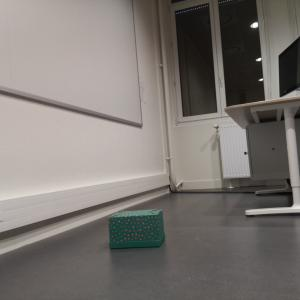small: (107, 208, 166, 252)
